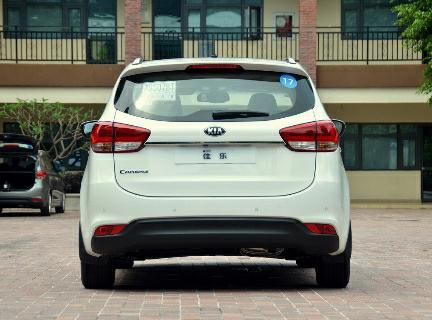起亚-佳乐: (65, 54, 362, 295)
